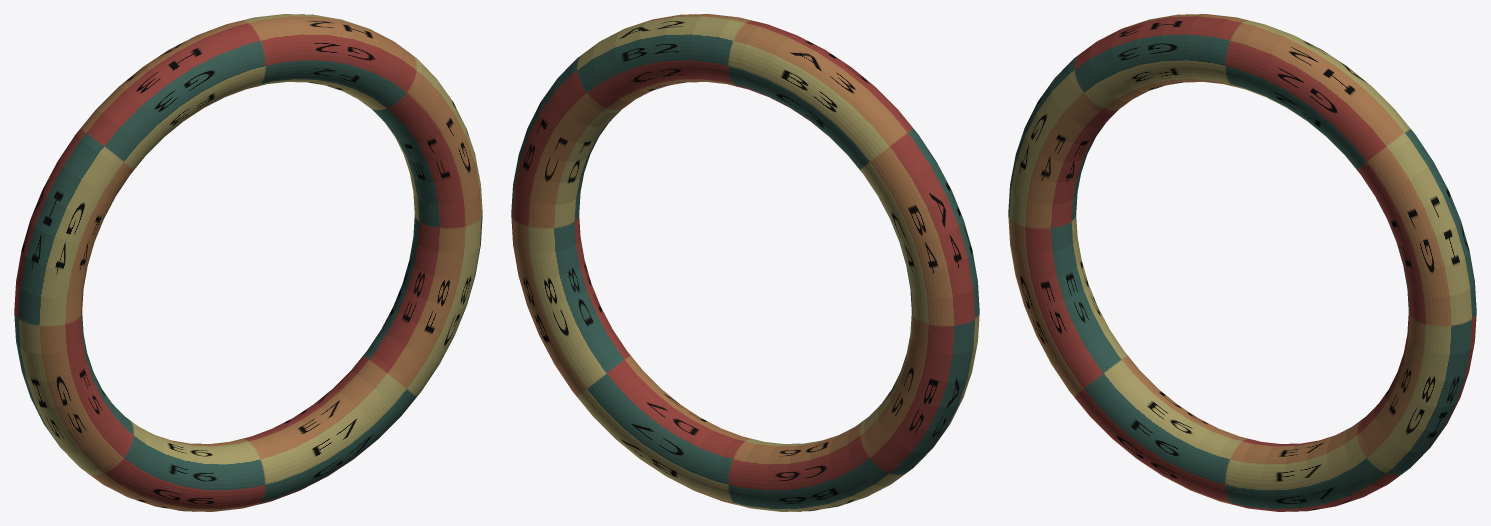
File: texture_torus_R19_r5.glb
The picture shows the model from 3 angles, left to right: view 1: azimuth 30°, elevation 25°; view 2: azimuth 150°, elevation 25°; view 3: azimuth 330°, elevation 25°; orthographic projection.
Visible parts, largest first — view 1: world; view 2: world; view 3: world.
Boxes of the visible parts, <box> form: world: <box>14,14,482,511</box>; world: <box>511,14,979,511</box>; world: <box>1008,14,1476,511</box>.
Bounding box in the file's own units: 26 × 25.95 × 3.33.
Materials: 1 (1 with a texture image).
